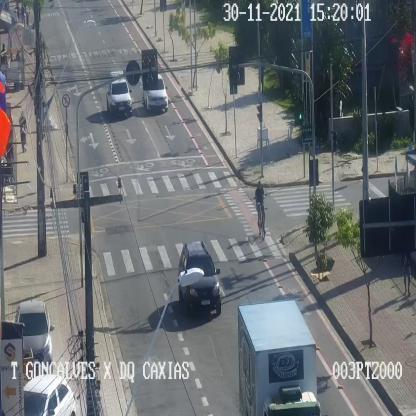bicycle: (255, 181, 268, 238)
car: (178, 243, 221, 313), (16, 301, 52, 372), (23, 374, 76, 415), (106, 71, 132, 116), (142, 74, 168, 111)
person: (402, 250, 411, 295), (19, 110, 27, 152), (20, 4, 26, 29), (15, 3, 20, 29)
truck: (238, 299, 322, 415)
